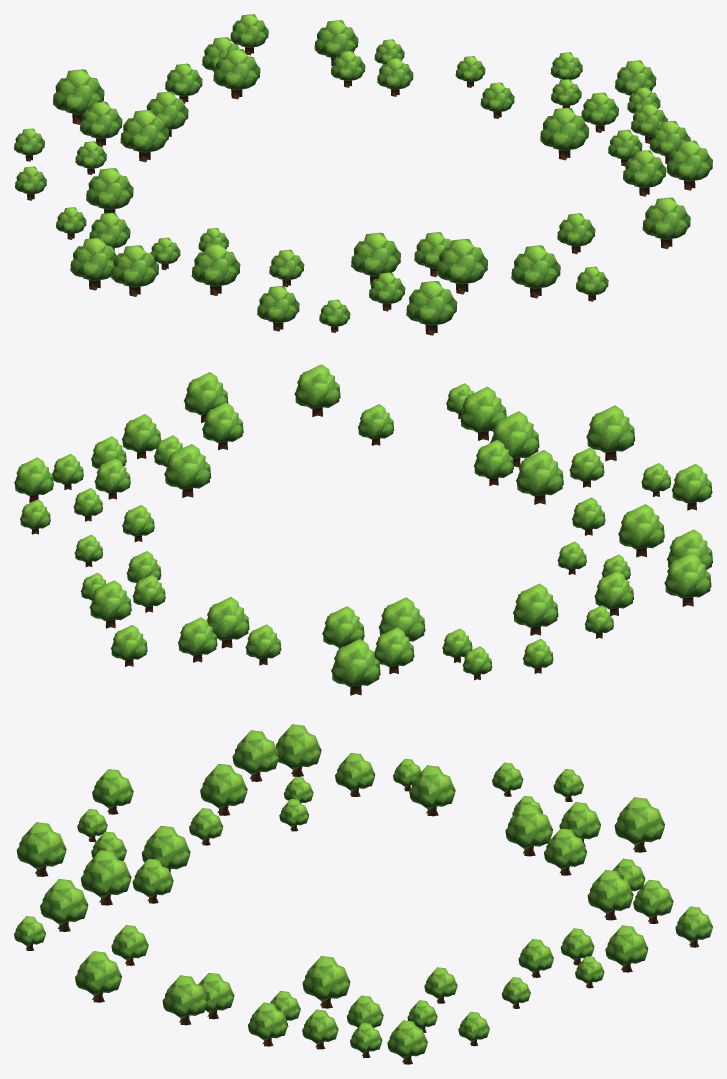
File: treeline.glb
3 renders of one model, top to bottom at view 1: azimuth 30°, elevation 25°; view 2: azimuth 150°, elevation 25°; view 3: azimuth 270°, elevation 25°, orthographic.
Visible parts, largest first — view 1: treeline; view 2: treeline; view 3: treeline.
Part boxes in pixels (<box>): treeline: <box>14,14,712,335</box>; treeline: <box>14,364,712,695</box>; treeline: <box>14,724,712,1064</box>.
Bounding box in the file's own units: 70.68 × 6.3 × 68.35.
1 material, 1 textured.
